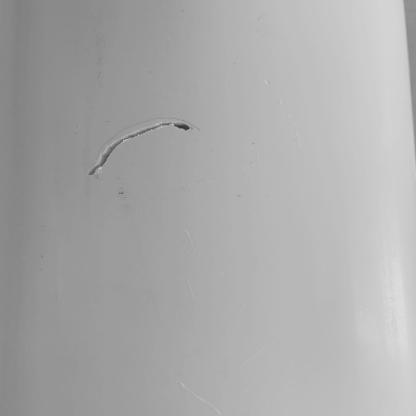fengxi: (87, 120, 195, 177)
